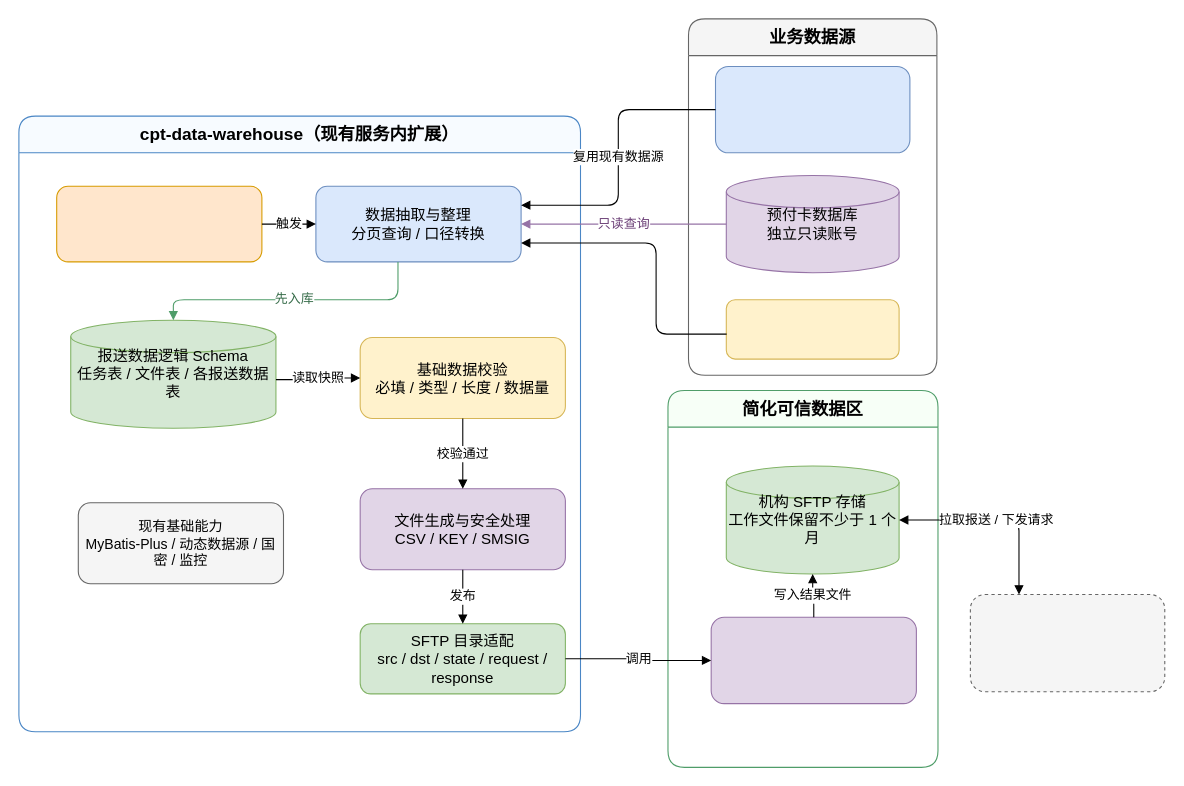
This 1184x786 diagram has some shape labels left out. Here are the shapes that lost their labels. From the top down, the centre of each, then its label:
At point (812, 109): "互联网支付业务库 customer / trade / channel 等".
At point (159, 223): "任务入口 AutoJob + 最小人工接口".
At point (812, 329): "机构及人工配置数据".
At point (813, 660): "监管核验程序 校验 / 压缩 / 整体加密".
At point (1067, 642): "非现场监督管理系统".
